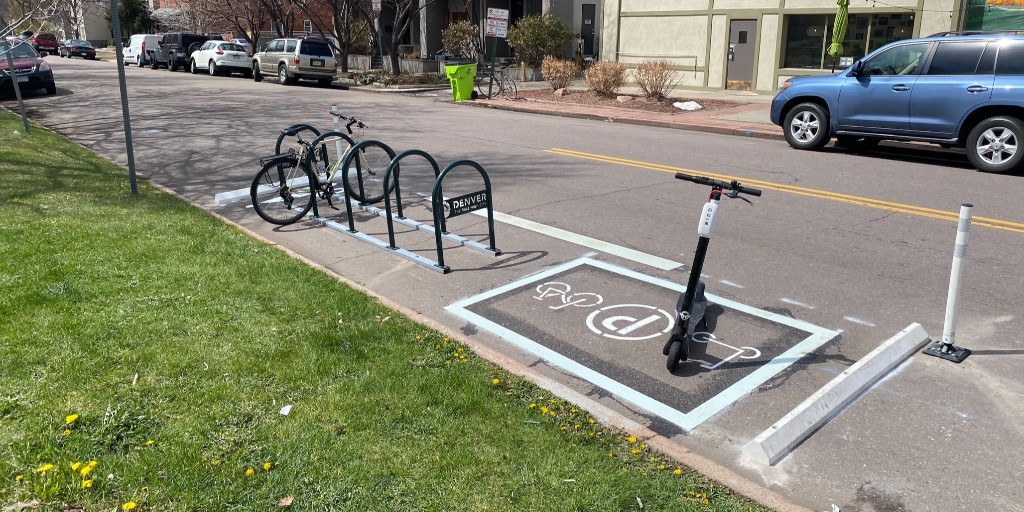bike: (230, 96, 426, 229)
